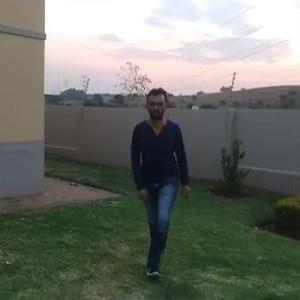follow: (128, 82, 184, 279)
